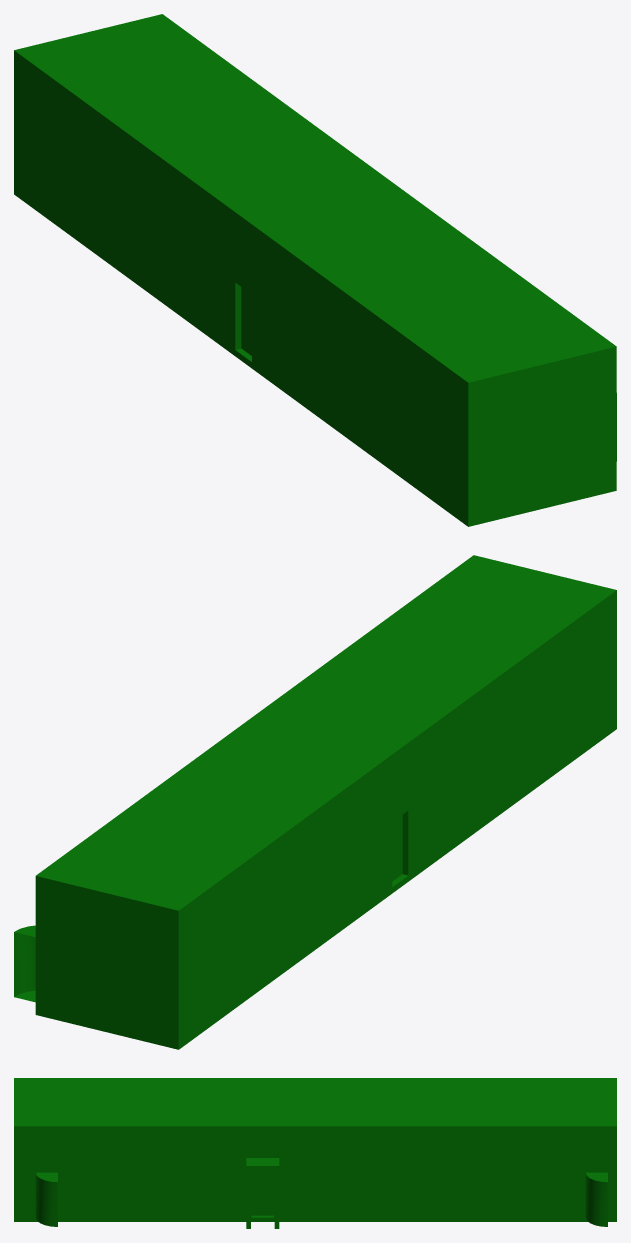
Rendered from Image-1711348128137-2280797002160_74-XX05.fbx.
3 renders of one model, top to bottom at view 1: azimuth 30°, elevation 25°; view 2: azimuth 150°, elevation 25°; view 3: azimuth 270°, elevation 25°, orthographic. The views are drawn at different scales.
Parts seen in each view (by area): view 1: PANEL 44 of EQUIPMENT /74-XX05, /LER-ROOF; view 2: PANEL 44 of EQUIPMENT /74-XX05, /LER-ROOF, RTORUS 2 of EQUIPMENT /74-XX05; view 3: PANEL 44 of EQUIPMENT /74-XX05, /LER-ROOF, PANEL 12 of EQUIPMENT /74-XX05, RTORUS 1 of EQUIPMENT /74-XX05, RTORUS 2 of EQUIPMENT /74-XX05.
Part boxes in pixels (x1,y1,x2,y2): PANEL 44 of EQUIPMENT /74-XX05: [14, 57, 616, 526]; /LER-ROOF: [14, 14, 616, 388]; PANEL 44 of EQUIPMENT /74-XX05: [35, 596, 616, 1049]; /LER-ROOF: [35, 555, 616, 916]; RTORUS 2 of EQUIPMENT /74-XX05: [14, 925, 35, 1002]; PANEL 44 of EQUIPMENT /74-XX05: [14, 1130, 616, 1221]; /LER-ROOF: [14, 1078, 616, 1130]; PANEL 12 of EQUIPMENT /74-XX05: [246, 1158, 279, 1228]; RTORUS 1 of EQUIPMENT /74-XX05: [35, 1172, 57, 1226]; RTORUS 2 of EQUIPMENT /74-XX05: [585, 1172, 607, 1226].
Bounding box in the file's own units: 5.8 × 25.7 × 4.5.
